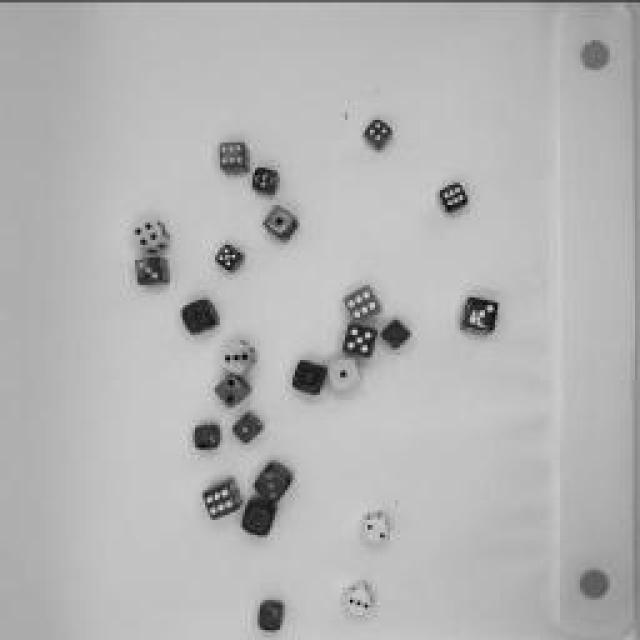dice_1: (264, 200, 301, 242), (326, 352, 364, 392), (295, 358, 327, 398), (230, 410, 265, 442)
dice_2: (462, 296, 502, 336), (214, 372, 251, 406), (258, 598, 288, 632), (362, 512, 392, 542)
dice_3: (222, 332, 258, 372), (252, 462, 292, 498), (342, 583, 378, 615)
dice_4: (180, 295, 230, 337), (131, 213, 171, 255), (242, 500, 280, 540), (359, 120, 399, 155), (191, 420, 221, 450)
dice_5: (342, 322, 378, 358), (381, 320, 414, 350), (212, 240, 242, 272)
dice_6: (204, 478, 241, 518), (344, 286, 384, 319), (219, 140, 251, 175), (440, 181, 470, 214), (250, 165, 282, 195)
